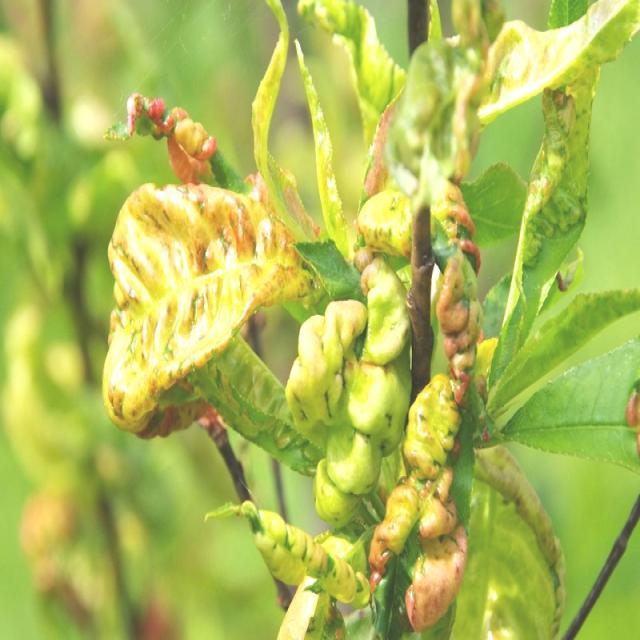peach_leaf_curl: (96, 68, 498, 617)
